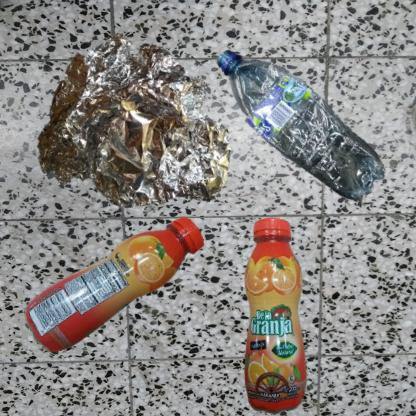aluminio: (10, 10, 256, 253)
botella: (213, 10, 416, 284), (10, 213, 252, 376), (213, 213, 359, 416)
